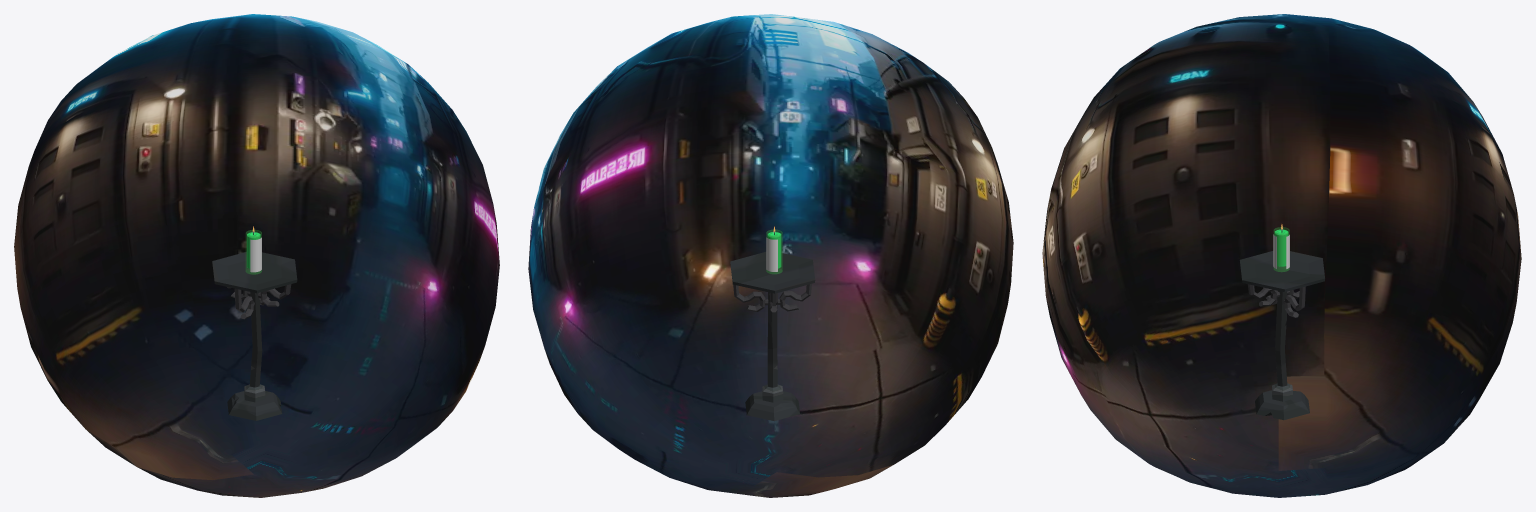
Rendered from XCandleAnimatedFlameVotiveCyberpunk.glb.
3 renders of one model, left to right at view 1: azimuth 30°, elevation 25°; view 2: azimuth 150°, elevation 25°; view 3: azimuth 270°, elevation 25°, orthographic.
Parts seen in each view (by area): view 1: Room, Candle_Stand; view 2: Room, Candle_Stand; view 3: Room, Candle_Stand.
Part boxes in pixels (<box>): Room: <box>14,14,499,497</box>; Candle_Stand: <box>212,252,297,420</box>; Room: <box>528,14,1013,497</box>; Candle_Stand: <box>730,252,815,421</box>; Room: <box>1042,14,1521,497</box>; Candle_Stand: <box>1239,251,1324,420</box>.
Bounding box in the file's own units: 24.43 × 24.43 × 24.44.
Materials: 6 (4 with a texture image).
